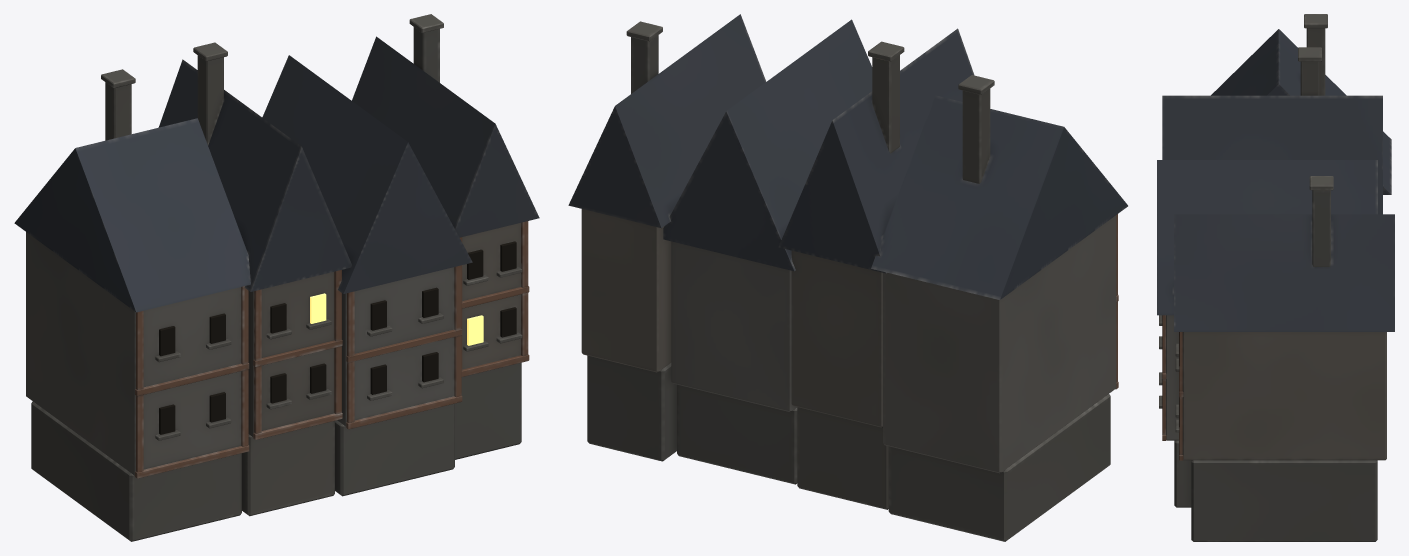
File: gallows_skyline_houses.glb
3 renders of one model, left to right at view 1: azimuth 30°, elevation 25°; view 2: azimuth 150°, elevation 25°; view 3: azimuth 270°, elevation 25°, orthographic. The views are drawn at different scales.
Visible parts, largest first — view 1: gallows_skyline_houses, gallows_skyline_houses_glow; view 2: gallows_skyline_houses; view 3: gallows_skyline_houses.
Part boxes in pixels (x1,y1,x2,y2): gallows_skyline_houses: (14,14,539,541); gallows_skyline_houses_glow: (310,293,483,345); gallows_skyline_houses: (568,14,1127,541); gallows_skyline_houses: (1157,14,1394,541).
Size of the model in its own units: 16.4 by 15.71 by 8.94.
2 materials, 1 textured.
